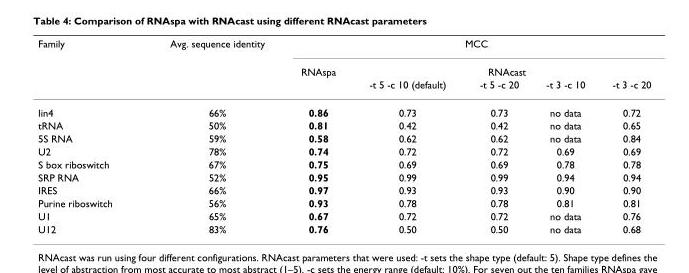table: (37, 37, 650, 234)
table column: (140, 37, 282, 234), (351, 37, 462, 234), (37, 37, 140, 234), (282, 37, 351, 234), (462, 37, 531, 234), (531, 37, 597, 234), (597, 37, 650, 234)
table column header: (37, 37, 650, 97)
table row: (37, 97, 650, 118), (37, 37, 650, 57), (37, 57, 650, 77), (37, 77, 650, 97), (37, 118, 650, 131), (37, 131, 650, 144), (37, 144, 650, 157), (37, 157, 650, 170), (37, 170, 650, 183), (37, 183, 650, 196), (37, 196, 650, 209), (37, 209, 650, 222), (37, 222, 650, 234)
table spanning cell: (140, 37, 282, 97), (282, 37, 650, 57), (37, 37, 140, 97), (351, 57, 650, 77), (282, 57, 351, 97)
